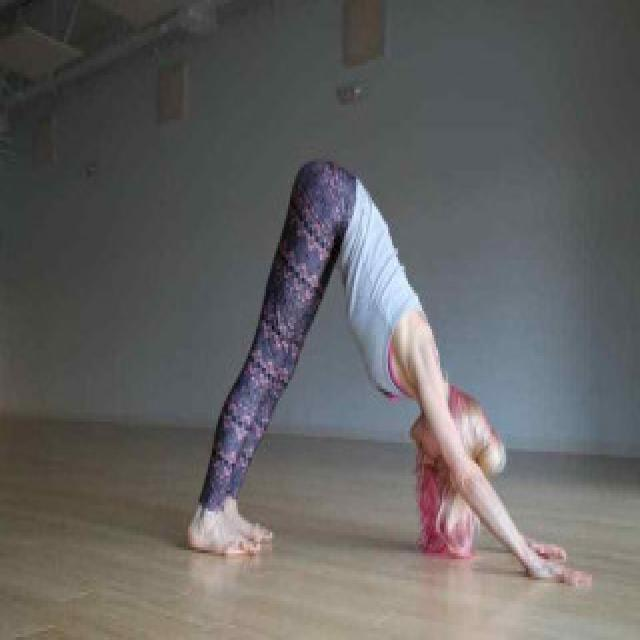yoga-pose downward: (186, 152, 568, 588)
